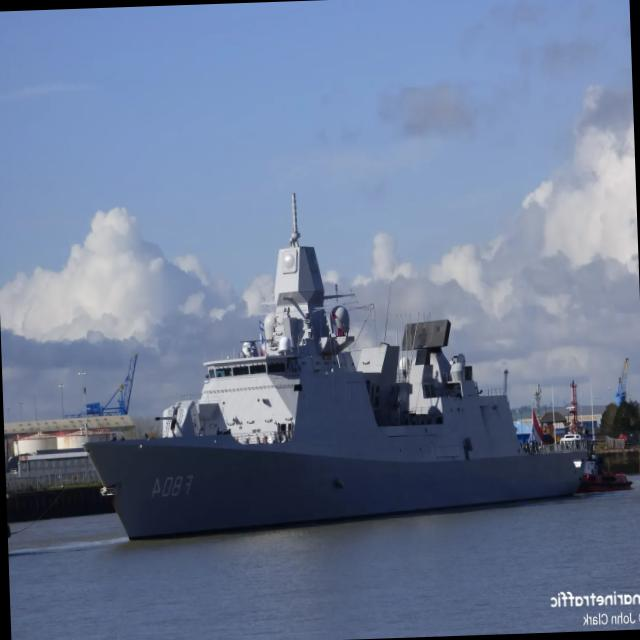Military: (86, 196, 587, 539)
